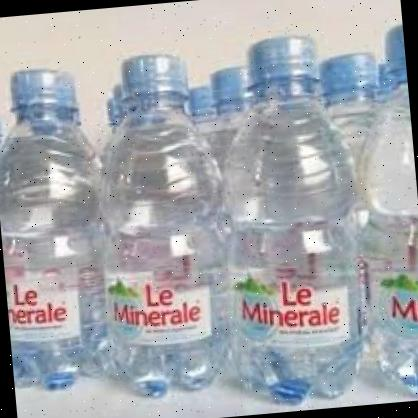bottle: (226, 30, 380, 406), (112, 50, 241, 392), (0, 51, 130, 383), (363, 22, 418, 394)
cap: (111, 48, 194, 110), (246, 35, 325, 93), (9, 64, 78, 116)
label: (228, 259, 365, 355), (98, 268, 232, 351), (5, 270, 118, 358), (372, 263, 418, 338)
